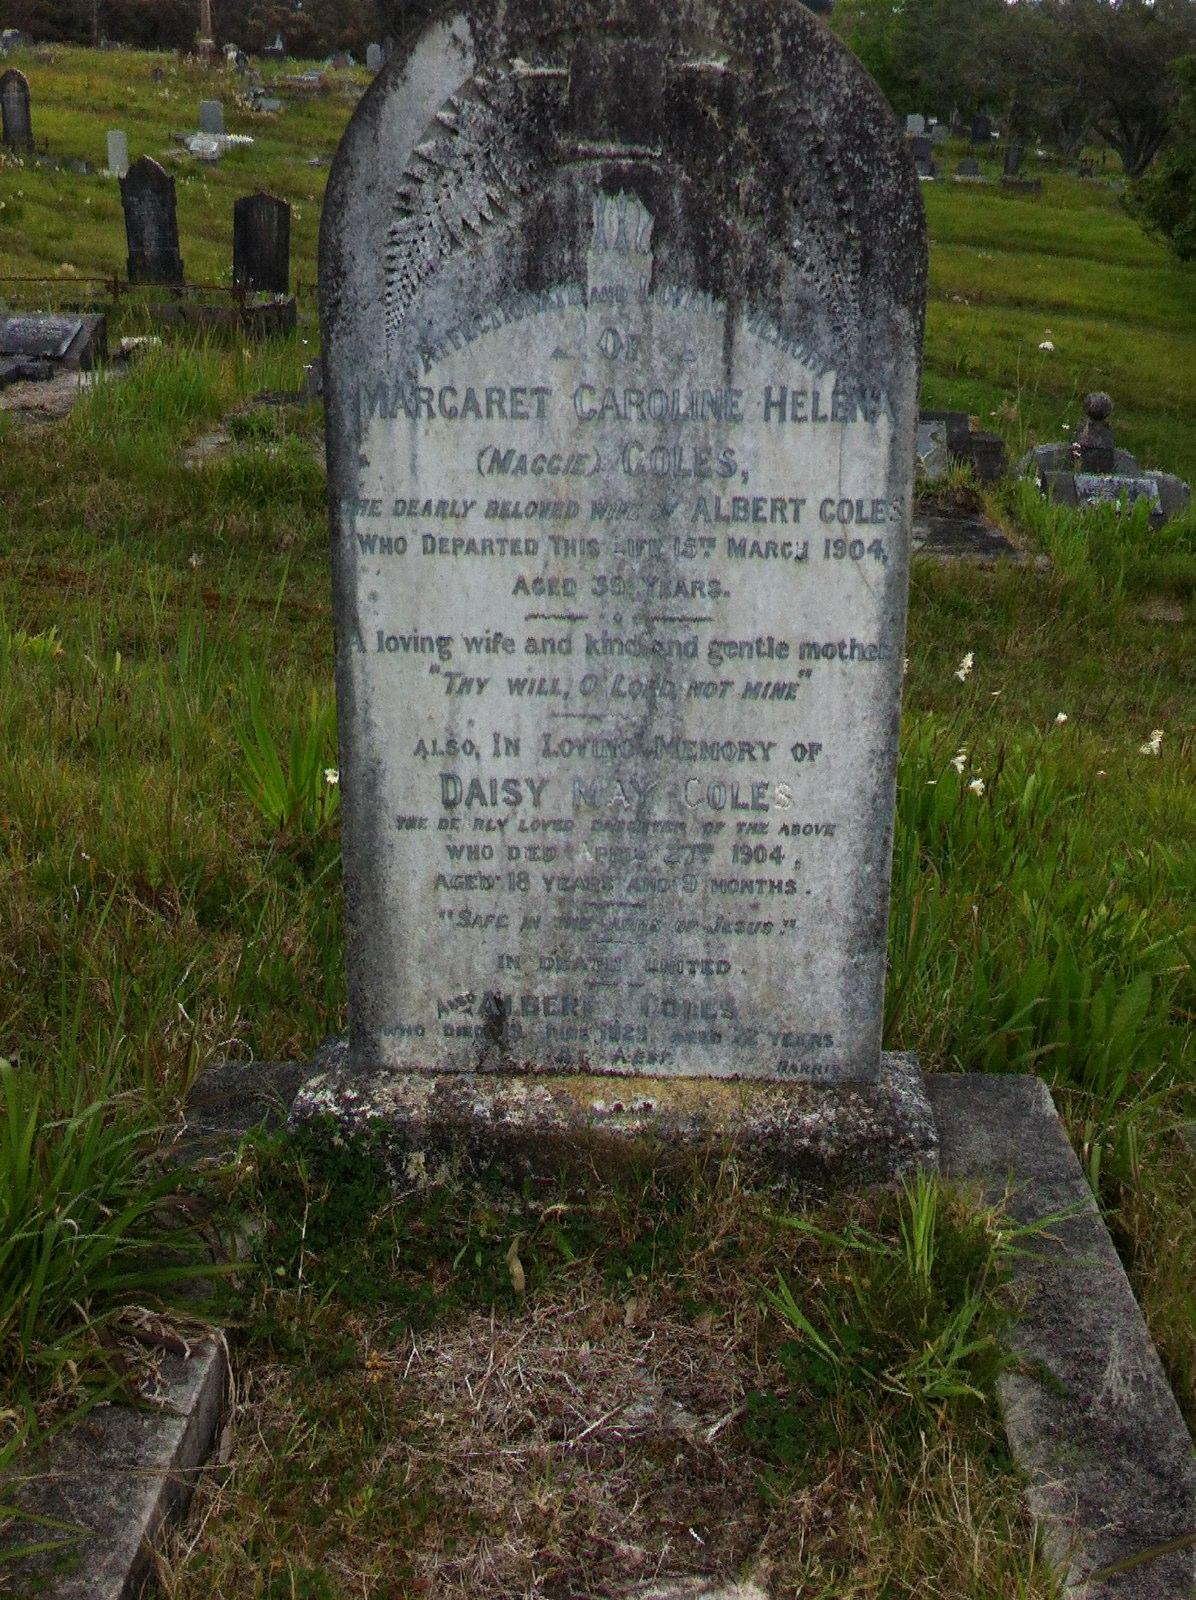upright: (307, 18, 954, 1196)
